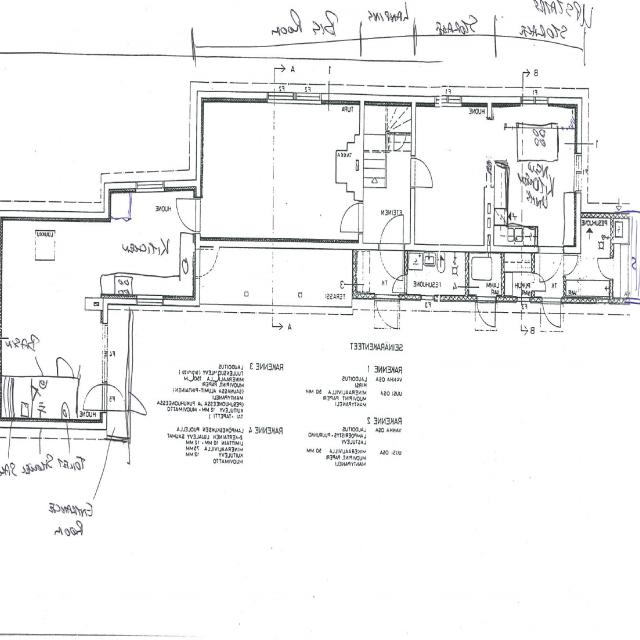door: (172, 200, 201, 232), (380, 243, 403, 281), (380, 211, 403, 249), (540, 243, 562, 281), (377, 294, 398, 331), (411, 158, 436, 187), (339, 204, 364, 231), (477, 294, 496, 326), (84, 385, 108, 410), (542, 294, 560, 326), (102, 385, 125, 410), (58, 351, 74, 378), (596, 258, 613, 278), (563, 255, 580, 274), (392, 274, 408, 293), (129, 392, 145, 411), (531, 272, 547, 290), (394, 116, 406, 135), (31, 386, 45, 402)
